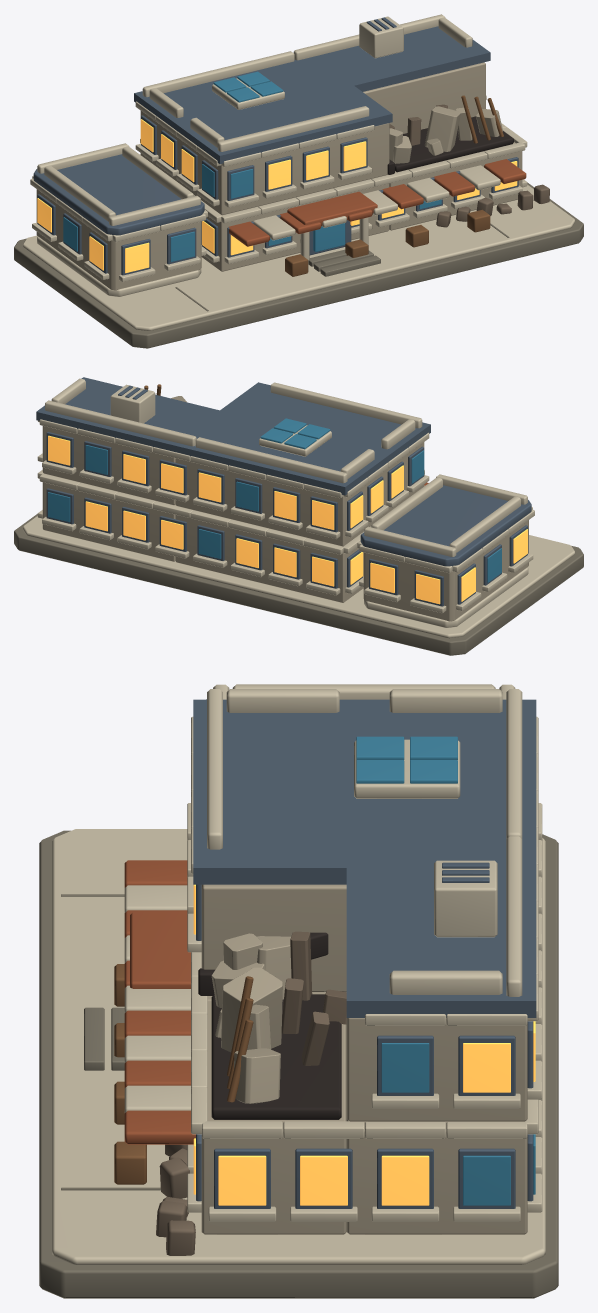
Rendered from civilian-market-damaged.glb.
The picture shows the model from 3 angles, top to bottom: view 1: azimuth 30°, elevation 25°; view 2: azimuth 150°, elevation 25°; view 3: azimuth 270°, elevation 25°; orthographic projection. The views are drawn at different scales.
Visible parts, largest first — view 1: CivilianShell; view 2: CivilianShell; view 3: CivilianShell.
Part boxes in pixels (x1,y1,x2,y2): CivilianShell: [14, 14, 583, 348]; CivilianShell: [14, 377, 583, 655]; CivilianShell: [39, 684, 558, 1298].
Bounding box in the file's own units: 3.97 × 1.38 × 1.98.
